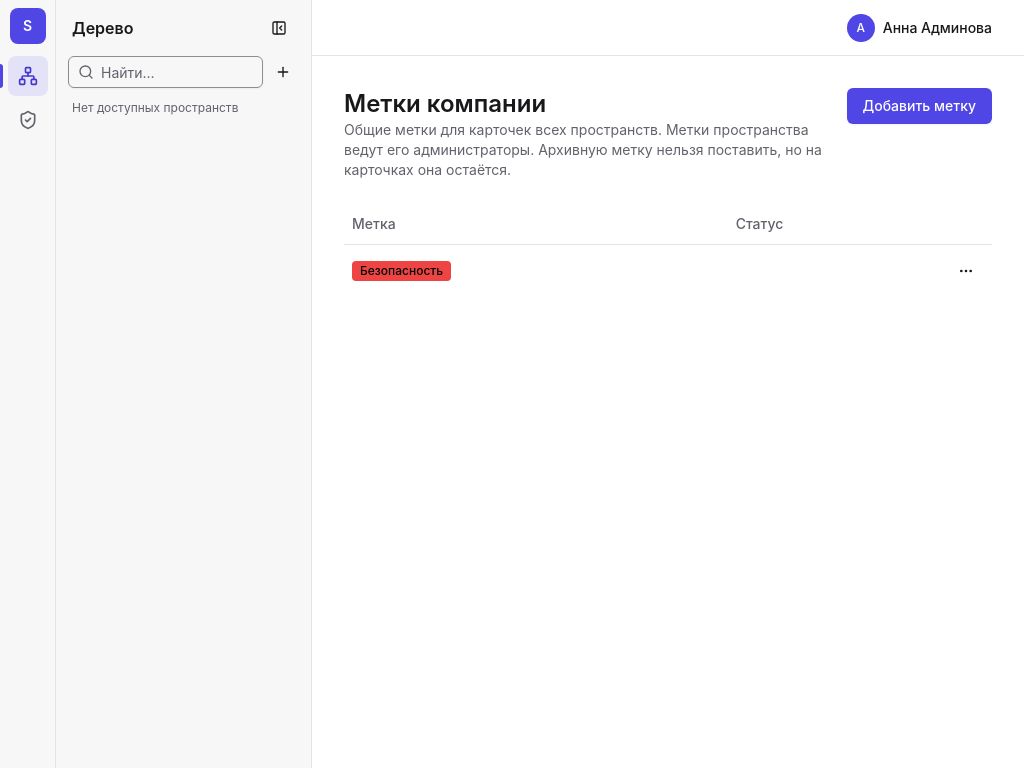
Test: Метки › у «⋯» метки — подсказка с названием в «ёлочках» (LATER-80)
Hover over the button named "Действия с меткой «Безопасность»".
mouse_move(966, 270)  # box [948, 252, 984, 288]
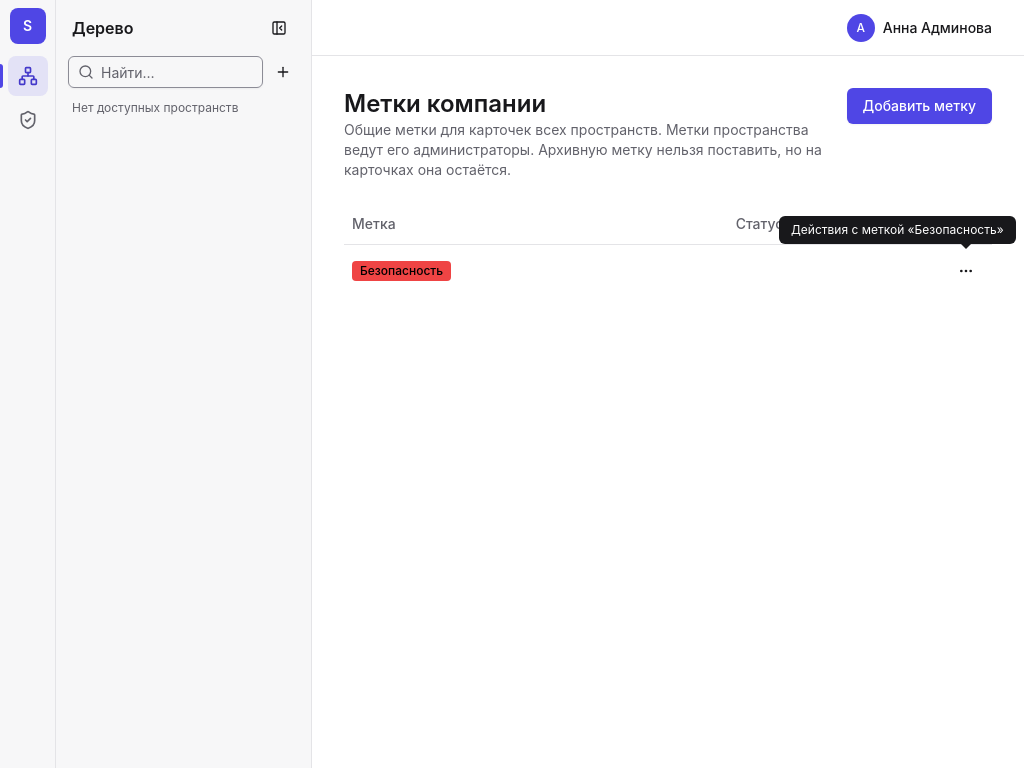
Check: the tooltip reads "Действия с меткой «Безопасность»", box [791, 222, 1004, 237]
